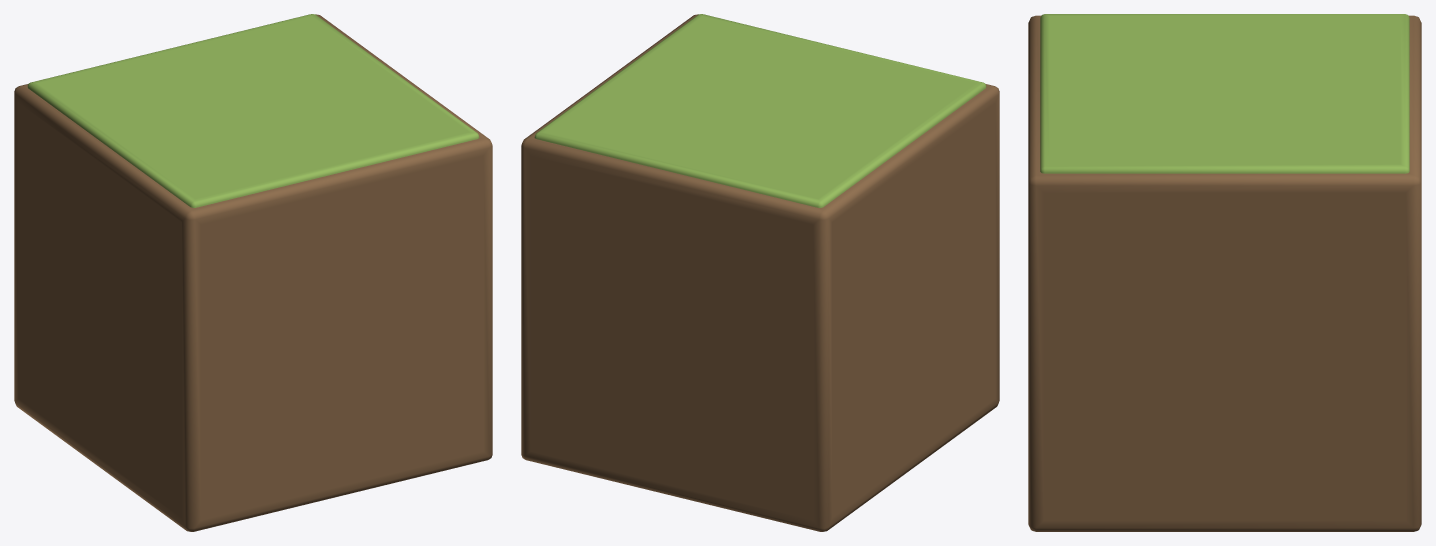
The model's file is block.glb.
The picture shows the model from 3 angles, left to right: view 1: azimuth 30°, elevation 25°; view 2: azimuth 150°, elevation 25°; view 3: azimuth 270°, elevation 25°; orthographic projection. The views are drawn at different scales.
Parts seen in each view (by area): view 1: Block_Earth, Block_Grass; view 2: Block_Earth, Block_Grass; view 3: Block_Earth, Block_Grass.
Boxes of the visible parts, bbox=[...] form: Block_Earth: bbox=[14, 14, 492, 531]; Block_Grass: bbox=[27, 14, 479, 207]; Block_Earth: bbox=[521, 14, 999, 531]; Block_Grass: bbox=[534, 14, 986, 207]; Block_Earth: bbox=[1028, 15, 1421, 531]; Block_Grass: bbox=[1040, 14, 1409, 173].
Bounding box in the file's own units: 1 × 1.01 × 1.
